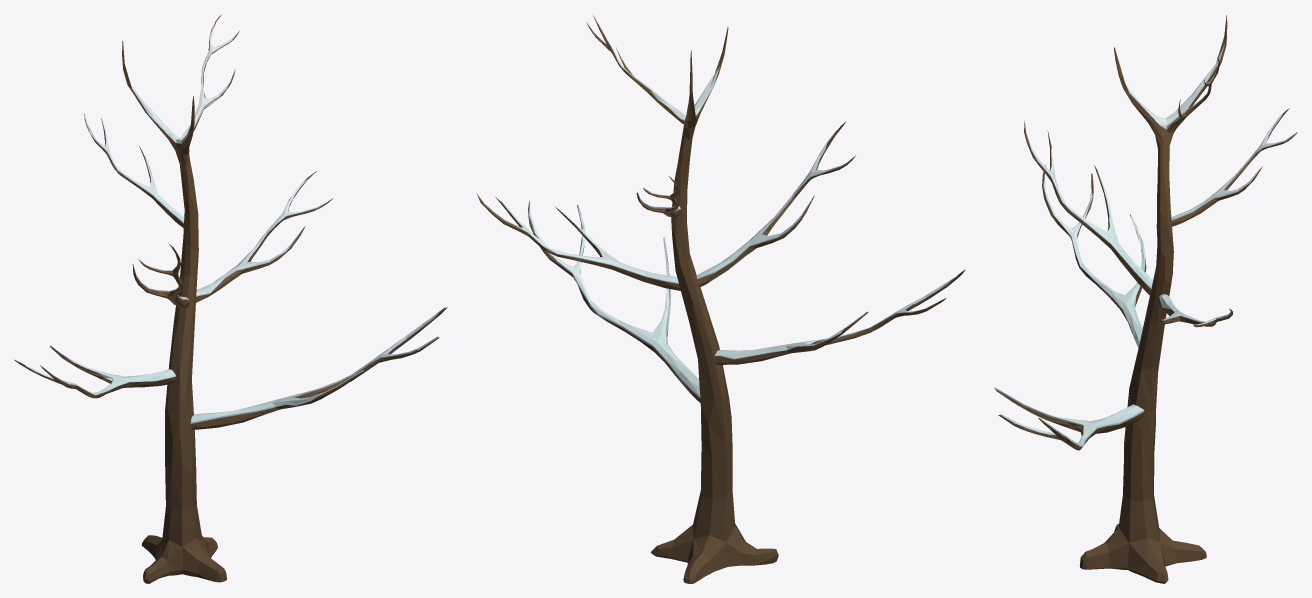
Rendered from Winter_Tree_10.glb.
3 renders of one model, left to right at view 1: azimuth 30°, elevation 25°; view 2: azimuth 150°, elevation 25°; view 3: azimuth 270°, elevation 25°, orthographic. The views are drawn at different scales.
Parts seen in each view (by area): view 1: Winter_Tree_10_LOD0; view 2: Winter_Tree_10_LOD0; view 3: Winter_Tree_10_LOD0.
Boxes of the visible parts, x1,y1,x2,y2 form: Winter_Tree_10_LOD0: (14,14,447,583); Winter_Tree_10_LOD0: (477,15,965,583); Winter_Tree_10_LOD0: (994,15,1297,583).
Size of what is drawn, in the model's own units: 9.19 by 10.89 by 5.52.
Materials: 1 (1 with a texture image).
